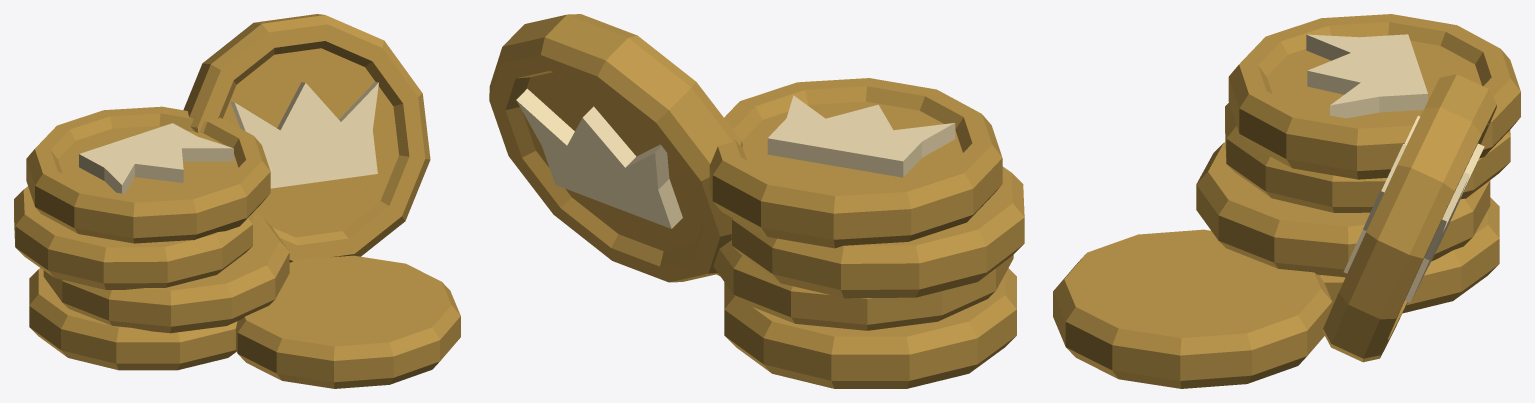
The model's file is GoldPile.fbx.
The picture shows the model from 3 angles, left to right: view 1: azimuth 30°, elevation 25°; view 2: azimuth 150°, elevation 25°; view 3: azimuth 270°, elevation 25°; orthographic projection. The views are drawn at different scales.
Parts seen in each view (by area): view 1: Coins, Crowns; view 2: Coins, Crowns; view 3: Coins, Crowns.
Part boxes in pixels (bbox=[...]): Coins: bbox=[14, 14, 460, 388]; Crowns: bbox=[79, 82, 378, 193]; Coins: bbox=[489, 14, 1024, 388]; Crowns: bbox=[516, 88, 955, 228]; Coins: bbox=[1053, 14, 1520, 388]; Crowns: bbox=[1306, 34, 1484, 302].
Size of the model in its own units: 1.58 by 0.8728 by 1.34.
